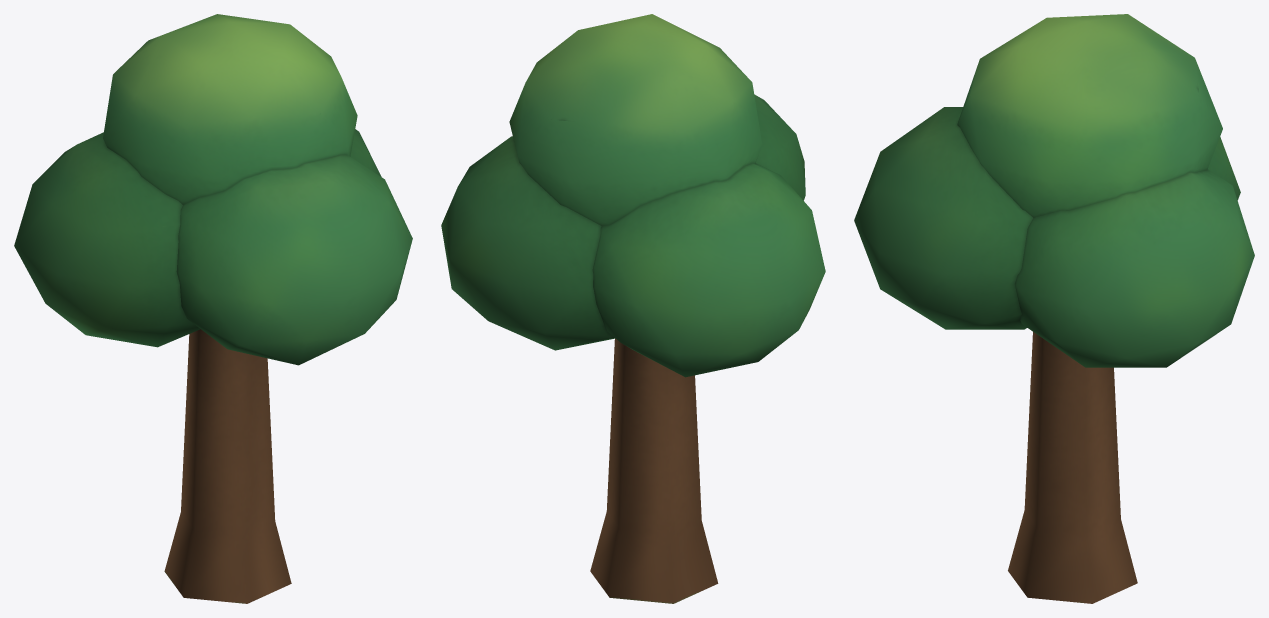
The model's file is tree_round.glb.
The picture shows the model from 3 angles, left to right: view 1: azimuth 30°, elevation 25°; view 2: azimuth 150°, elevation 25°; view 3: azimuth 270°, elevation 25°; orthographic projection. The views are drawn at different scales.
Parts seen in each view (by area): view 1: tree_round; view 2: tree_round; view 3: tree_round.
Part boxes in pixels (left/top/right/bottom): tree_round: left=14, top=14, right=412, bottom=603; tree_round: left=441, top=14, right=825, bottom=603; tree_round: left=854, top=14, right=1254, bottom=603.
Bounding box in the file's own units: 0.4013 × 0.6184 × 0.4011.
1 material, 1 textured.
